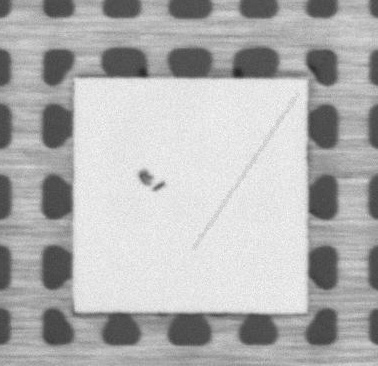DIE_CRACK: (194, 94, 298, 248)
